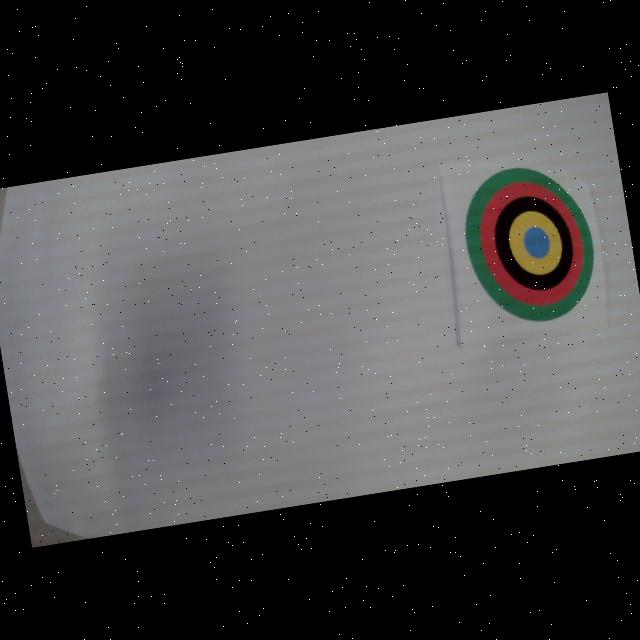COGNITIVE: (454, 156, 605, 334)
